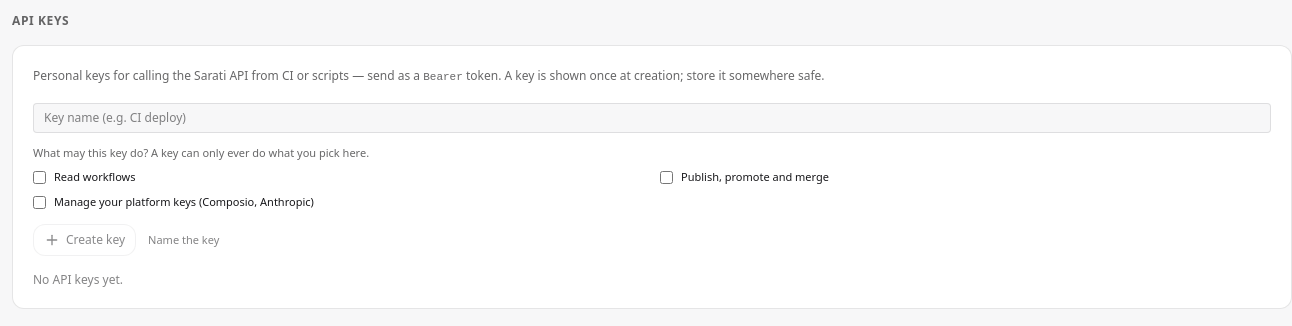
ApiKeysSettings › refuses to create until the key is named and given at least one power
The width and height of the screenshot is (1292, 326).
Expected: the checkbox labelled "Read workflows" is shown, [33,171,46,184]
Expected: the button "Create key" is disabled, [33,224,136,256]
Type "CI deploy" into the field labelled "Key name".
click(652, 118); type("CI deploy")  # box [33,103,1271,133]
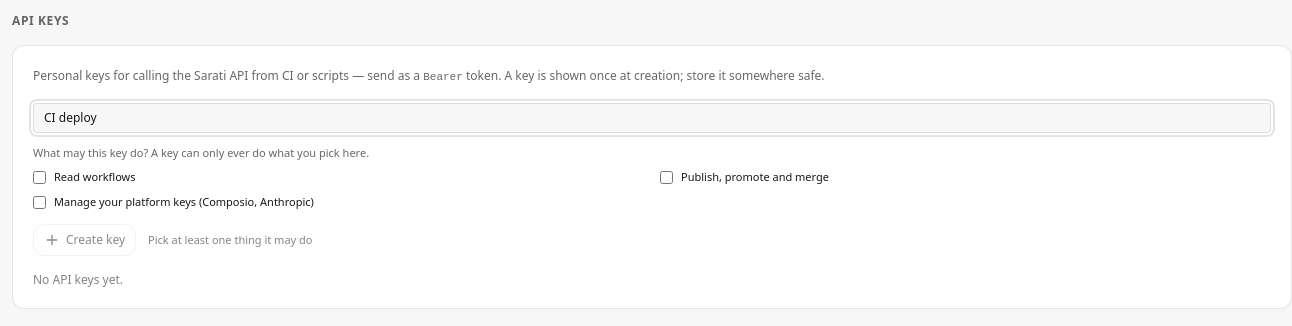
Expected: the button "Create key" is disabled, [33,224,136,256]
Expected: the text "Pick at least one thing it may do" is shown, [148,232,312,249]
Click the checkbox labelled "Read workflows".
click(40, 178)  # box [33,171,46,184]
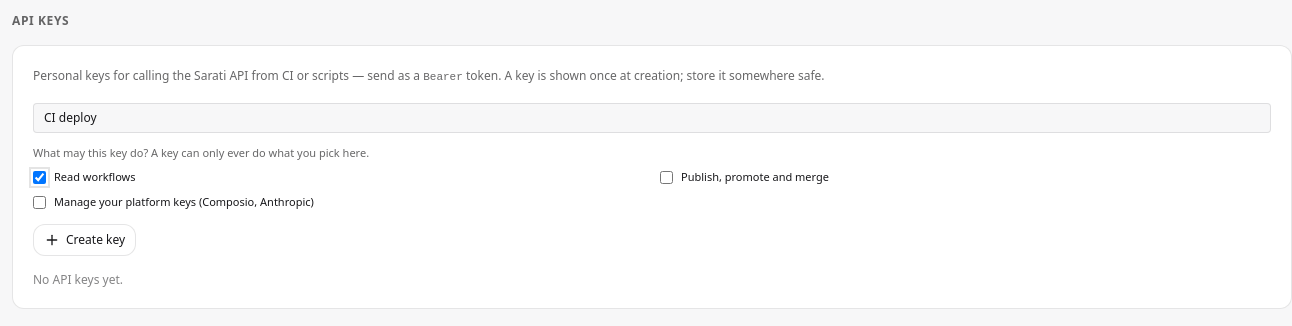
Expected: the button "Create key" is enabled, [33,224,136,256]
